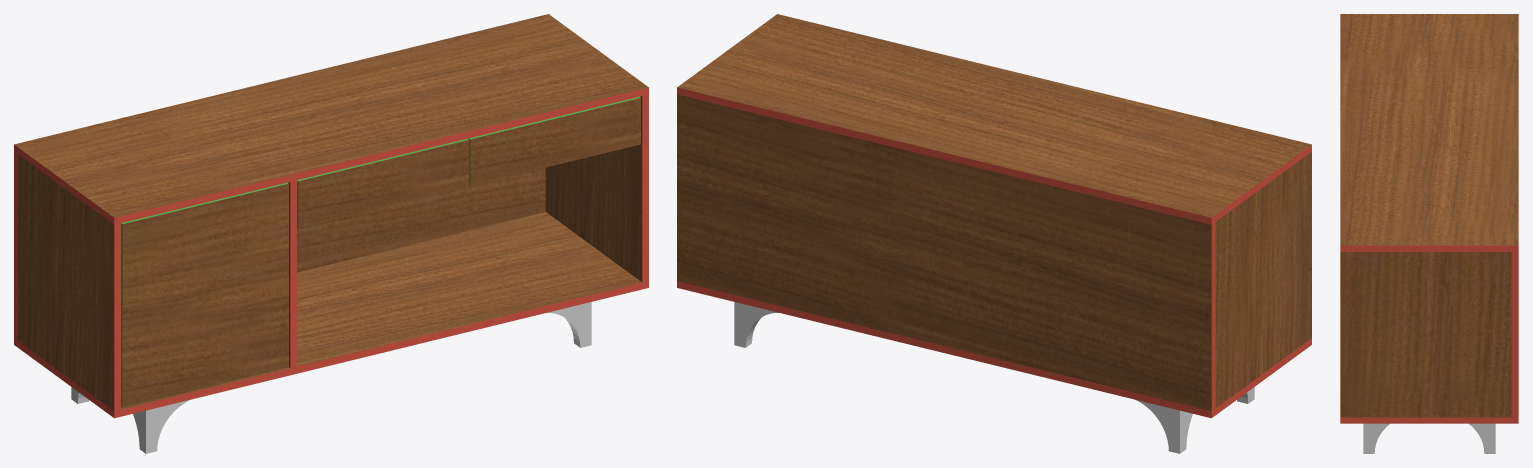
The model's file is MOB3D.glb.
3 renders of one model, left to right at view 1: azimuth 30°, elevation 25°; view 2: azimuth 150°, elevation 25°; view 3: azimuth 270°, elevation 25°, orthographic. The views are drawn at different scales.
Parts seen in each view (by area): view 1: C-A PISO/TECHO.001, C-A PISO/TECHO, C-A PUERTA, C-A LAT/DIVISOR.001, C-A FONDO, C-A LAT/DIVISOR, C-A FRENTE.001, C-A FRENTE, C-pata.001, C-A LAT/DIVISOR.002; view 2: C-A FONDO, C-A PISO/TECHO.001, C-A LAT/DIVISOR.001, C-A PISO/TECHO, C-pata; view 3: C-A PISO/TECHO.001, C-A LAT/DIVISOR, C-A FONDO, C-A PISO/TECHO, C-pata, C-pata.001, C-pata ch.001.
Part boxes in pixels (x1,y1,x2,y2): C-A PISO/TECHO.001: [14, 14, 648, 224]; C-A PISO/TECHO: [14, 212, 648, 418]; C-A PUERTA: [121, 182, 288, 407]; C-A LAT/DIVISOR.001: [18, 154, 120, 411]; C-A FONDO: [14, 151, 545, 340]; C-A LAT/DIVISOR: [545, 94, 648, 282]; C-A FRENTE.001: [468, 96, 640, 185]; C-A FRENTE: [297, 138, 468, 227]; C-pata.001: [139, 302, 591, 453]; C-A LAT/DIVISOR.002: [288, 180, 296, 368]; C-A FONDO: [677, 94, 1215, 411]; C-A PISO/TECHO.001: [677, 14, 1311, 224]; C-A LAT/DIVISOR.001: [1215, 151, 1311, 407]; C-A PISO/TECHO: [677, 281, 1311, 418]; C-pata: [734, 302, 1186, 453]; C-A PISO/TECHO.001: [1340, 14, 1518, 251]; C-A LAT/DIVISOR: [1340, 252, 1511, 417]; C-A FONDO: [1511, 252, 1518, 417]; C-A PISO/TECHO: [1340, 417, 1518, 423]; C-pata: [1484, 423, 1495, 453]; C-pata.001: [1363, 423, 1374, 453]; C-pata ch.001: [1374, 423, 1484, 451].
Size of the model in its own units: 1.2 by 0.55 by 0.39.
4 materials, 1 textured.
